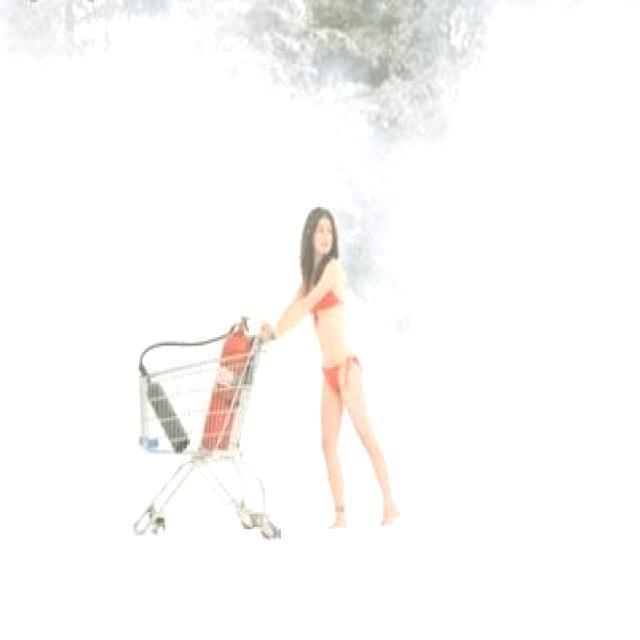no_vest: (298, 255, 361, 365)
